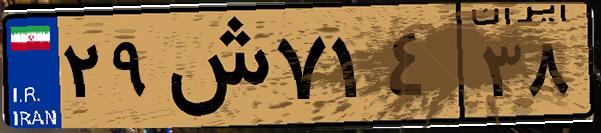1: (330, 28, 385, 110)
2: (57, 26, 110, 100)
3: (475, 38, 525, 113)
4: (385, 28, 445, 110)
7: (270, 28, 330, 110)
8: (525, 38, 570, 115)
9: (110, 28, 158, 98)
ش: (158, 12, 270, 120)
